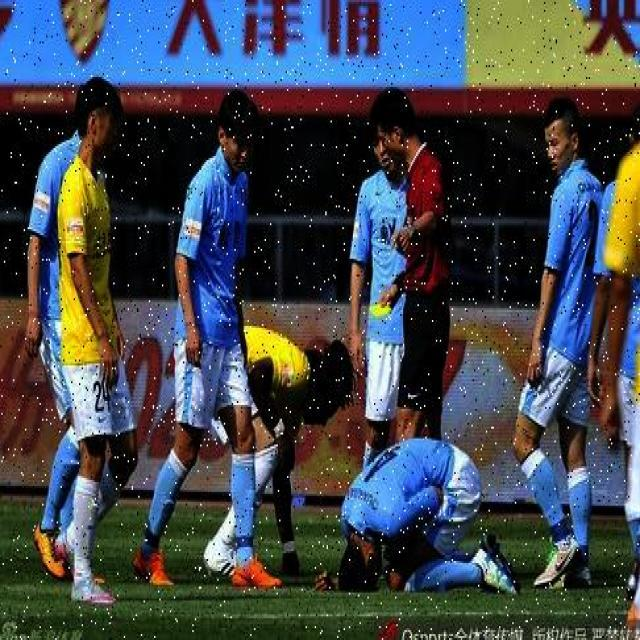fall: (328, 424, 510, 590)
